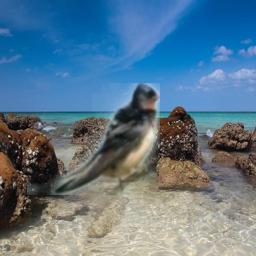Swallow: (27, 83, 160, 195)
